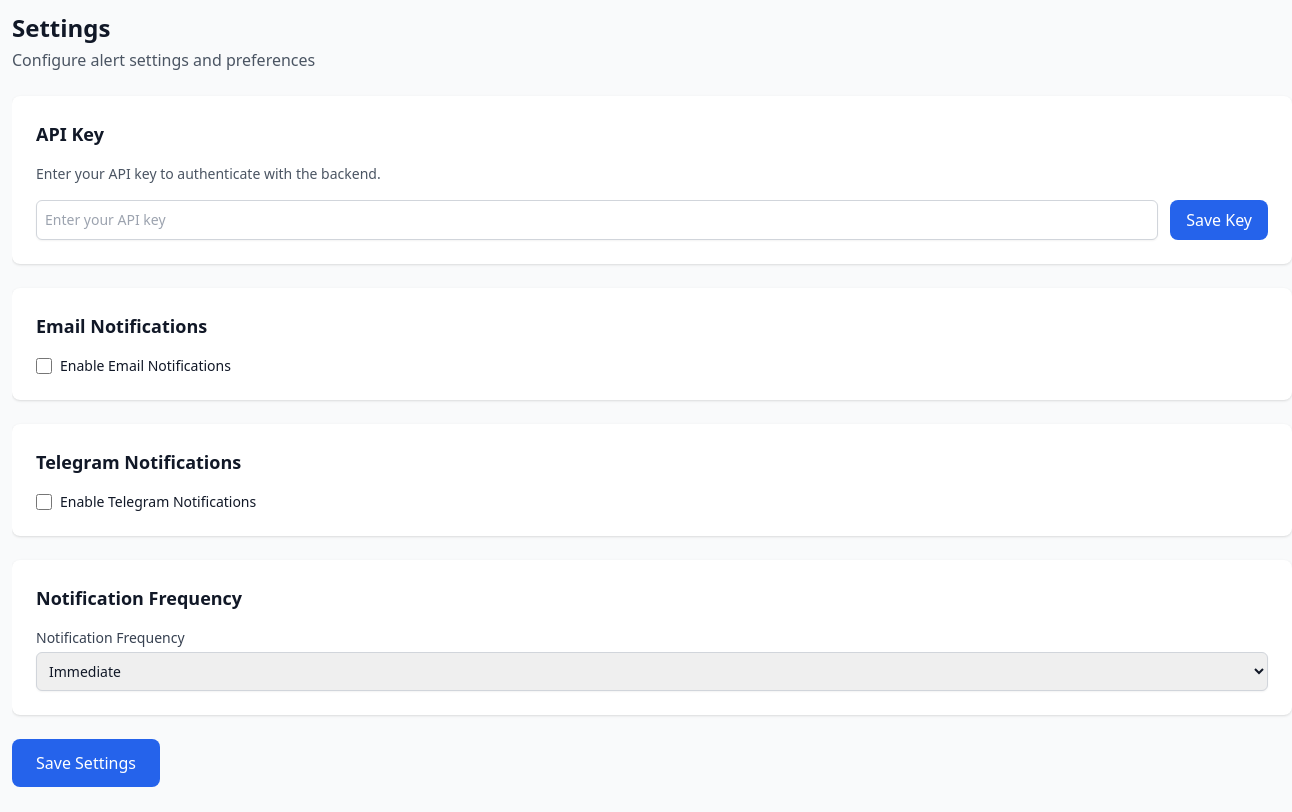
Test: SettingsPage › should show email input when email notifications enabled
Click the checkbox labelled "Enable Email Notifications". click: (44,366)
box: [36,358,52,374]
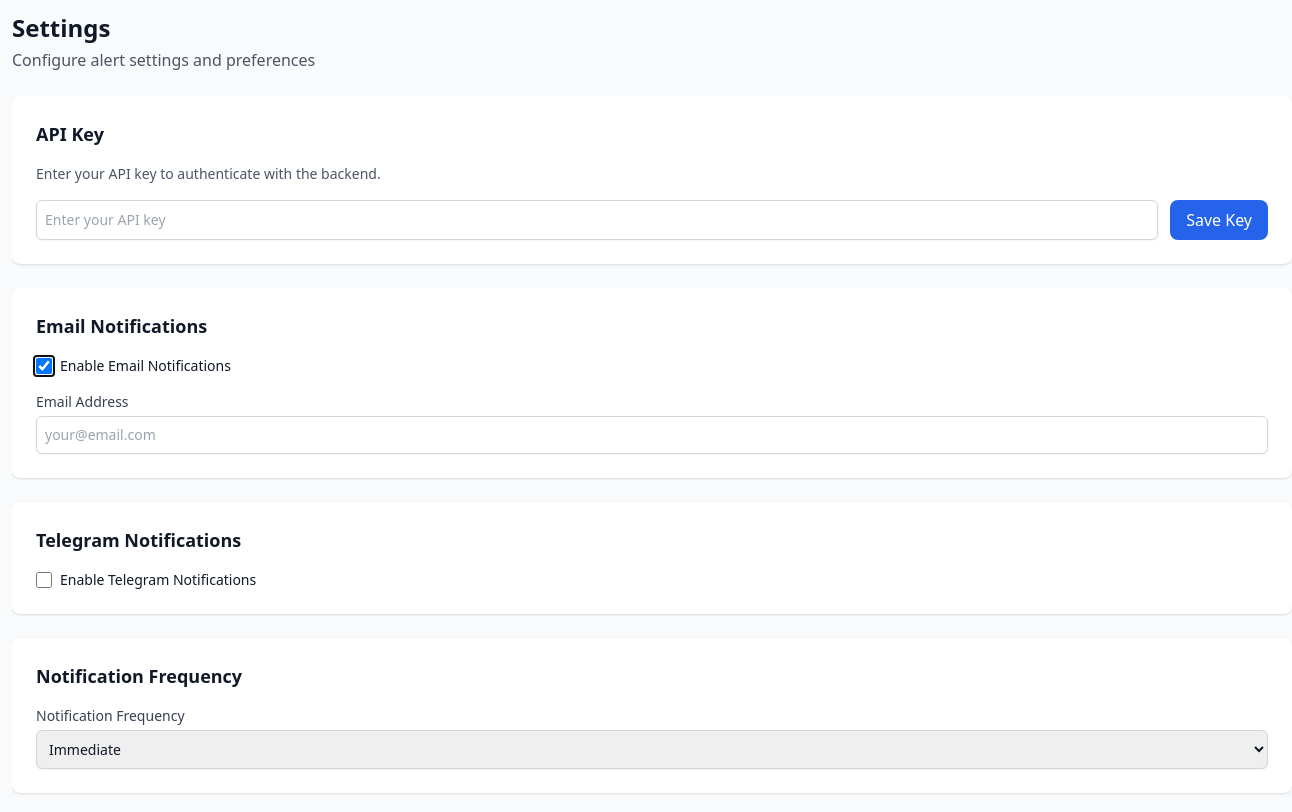
Result: the field labelled "Email Address" is shown at [36,416,1268,454]
